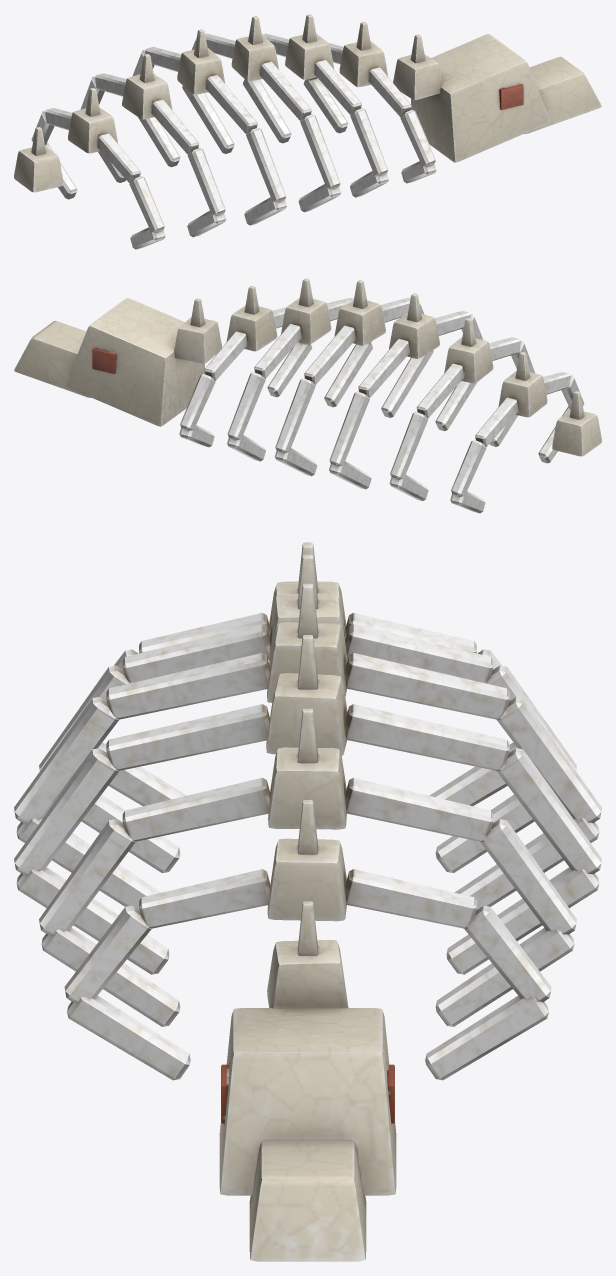
Rendered from Desert_Fossile.fbx.
The picture shows the model from 3 angles, top to bottom: view 1: azimuth 30°, elevation 25°; view 2: azimuth 150°, elevation 25°; view 3: azimuth 270°, elevation 25°; orthographic projection. The views are drawn at different scales.
Visible parts, largest first — view 1: Desert_Fossile; view 2: Desert_Fossile; view 3: Desert_Fossile.
Part boxes in pixels (<box>): Desert_Fossile: <box>14,14,601,249</box>; Desert_Fossile: <box>14,278,601,513</box>; Desert_Fossile: <box>14,542,601,1261</box>.
Size of the model in its own units: 2978 by 872 by 1385.
Materials: 1 (1 with a texture image).
